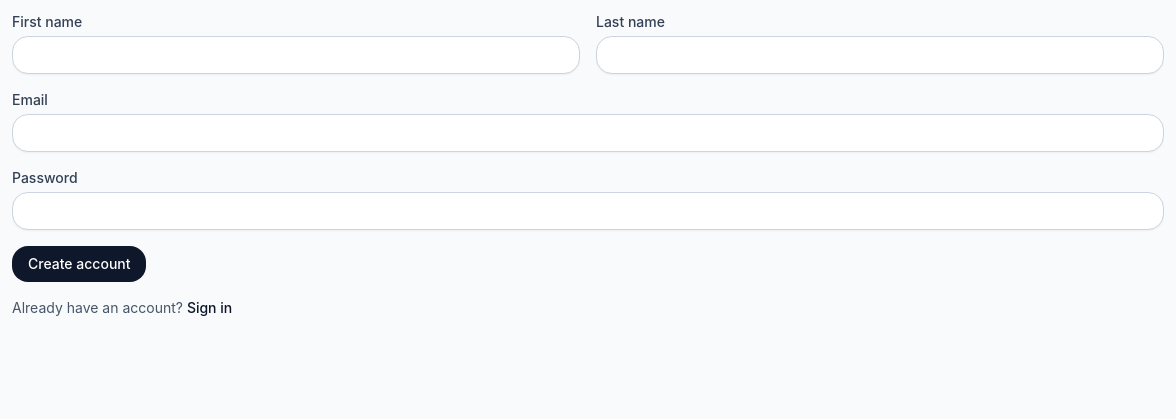
Test: RegisterForm API errors › shows duplicate email message for 409 responses
The width and height of the screenshot is (1176, 419).
Type "Alex" into the field labelled "First name" at (296, 55), box [12,36,580,74]
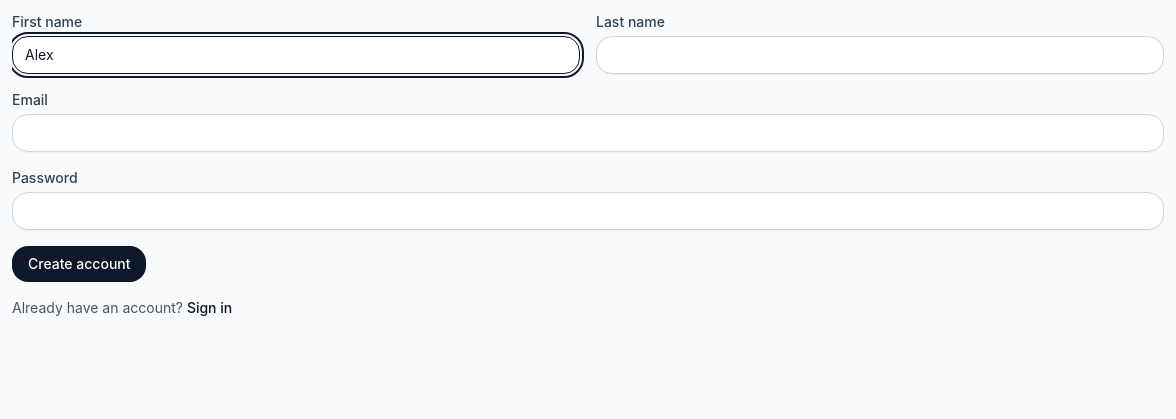
Type "Buyer" into the field labelled "Last name" at (880, 55), box [596,36,1164,74]
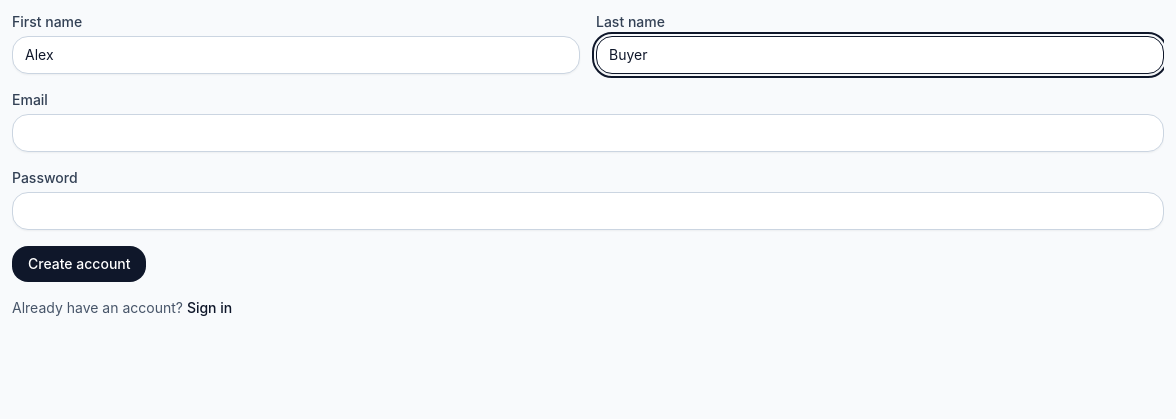
Type "buyer@example.com" into the field labelled "Email" at (588, 133), box [12,114,1164,152]
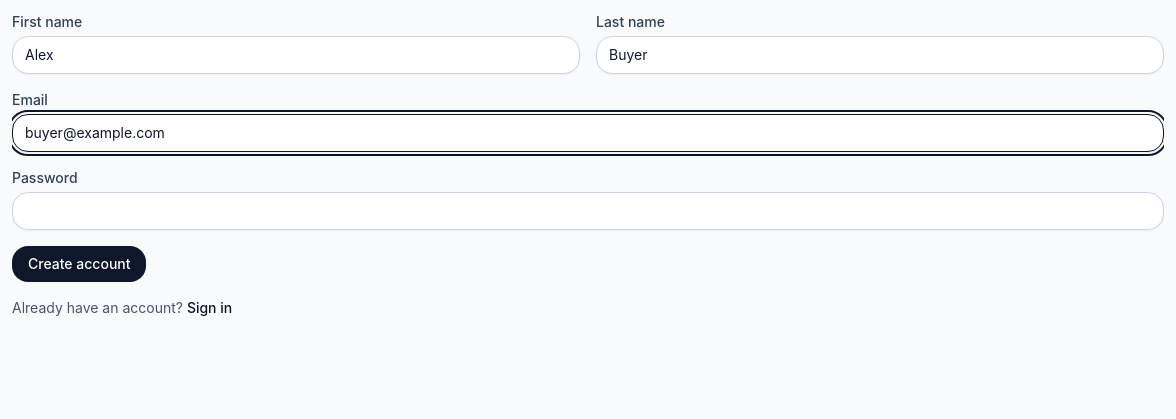
Type "secret123" into the password field labelled "Password" at (588, 211), box [12,192,1164,230]
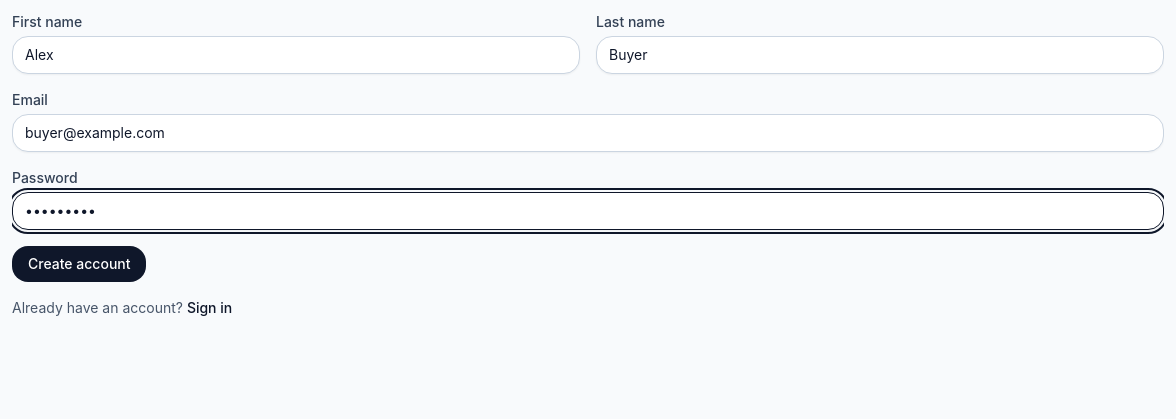
Click the button "Create account" at (79, 264), box [12,246,146,282]
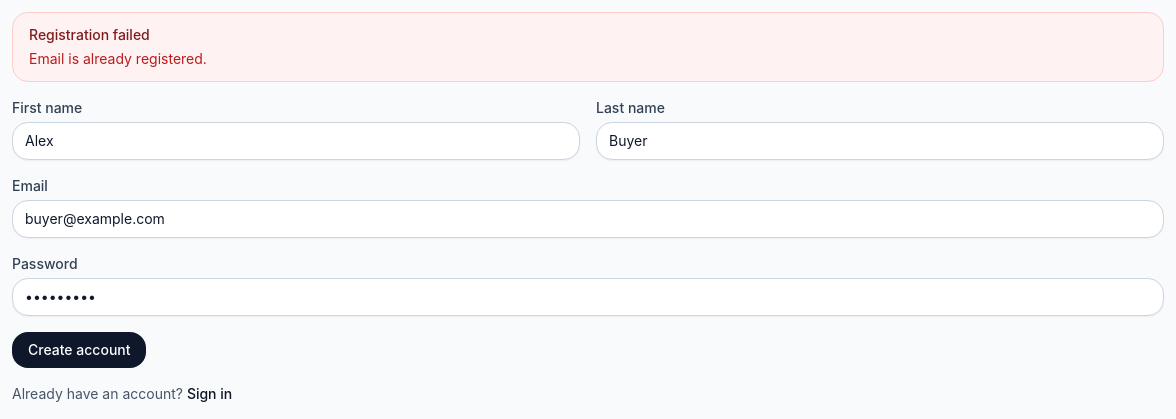
Expected: the text "Email is already registered." is shown, [29,50,207,67]
